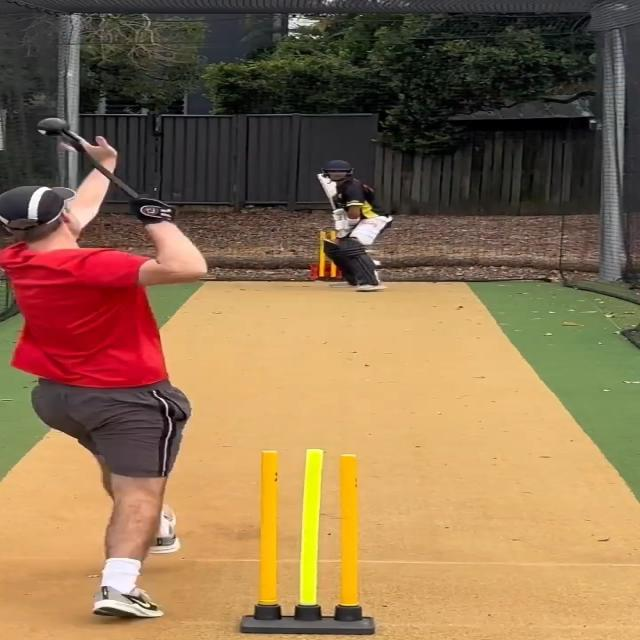stump: (240, 448, 378, 634)
